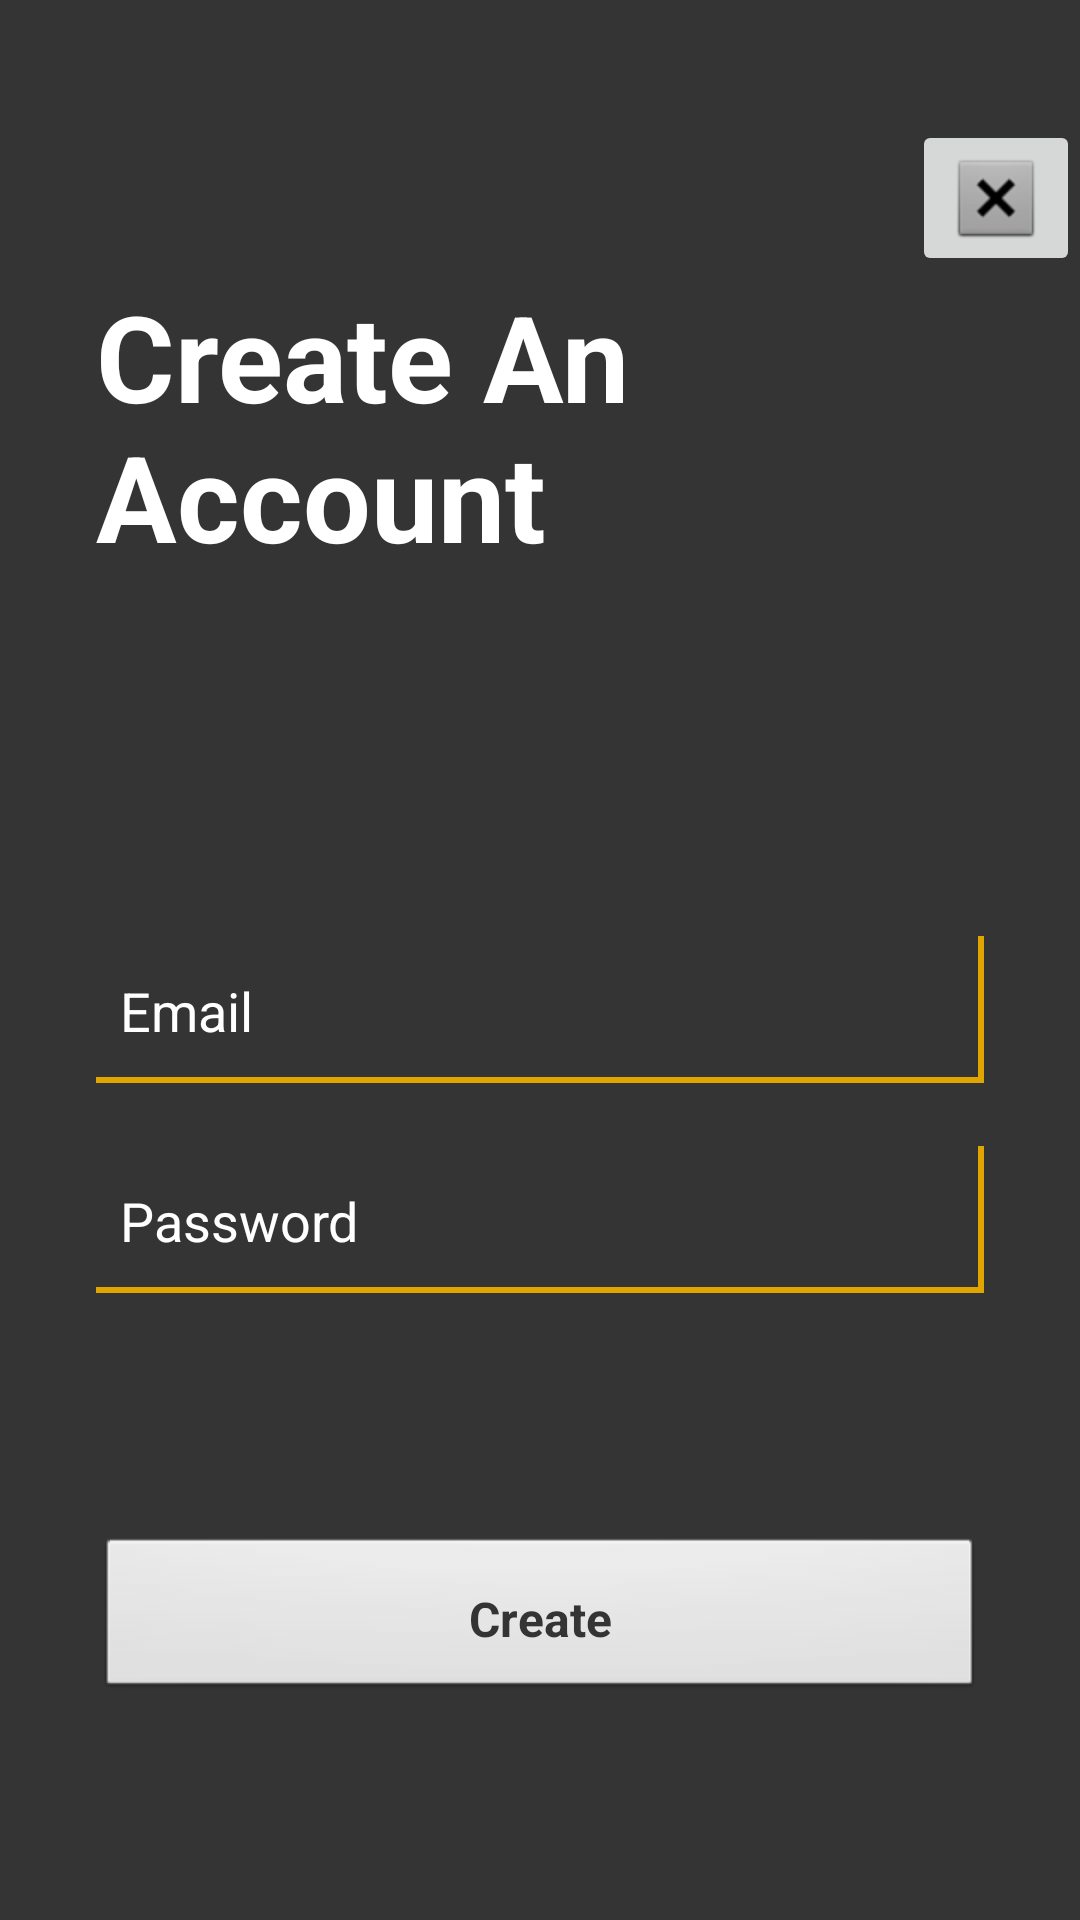

Locate icon controls on the screen. Image size 1080*1920, boxes as bbox=(x1, y1, x2, y2).
Exit: bbox=(924, 138, 1068, 258)
